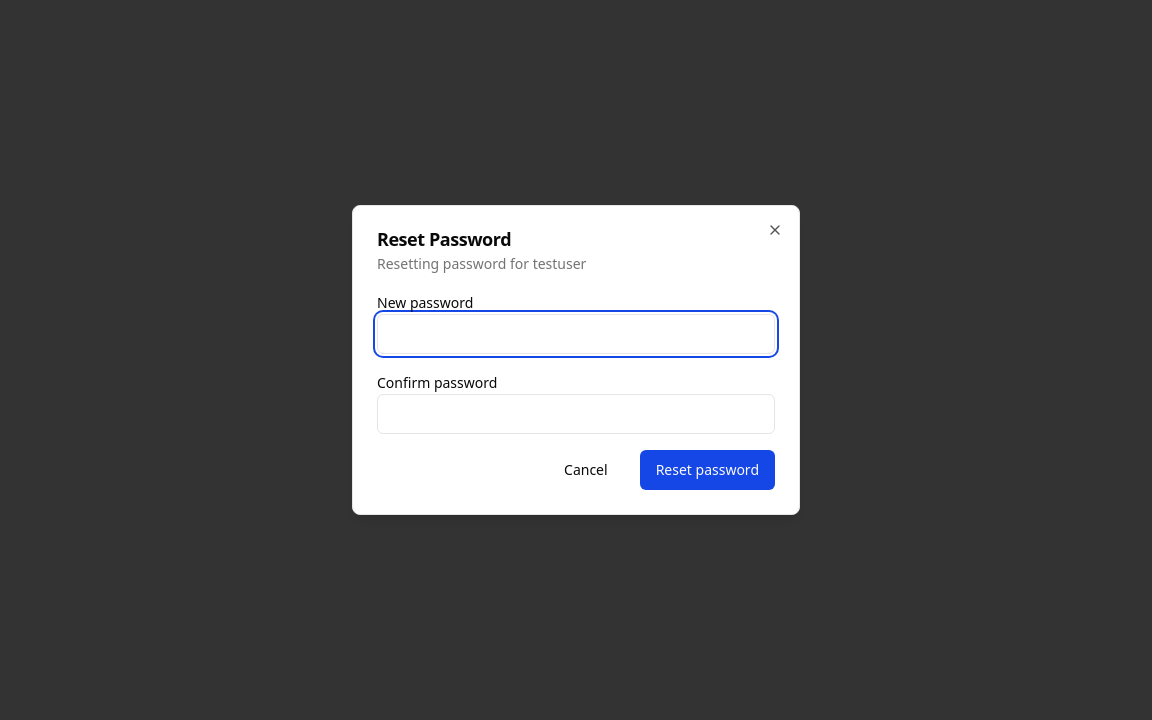
Test case: ResetPasswordDialog › shows "Passwords do not match." when passwords differ
Type "password123" into the password field labelled "New password" at (576, 334), box [377,314,775,354]
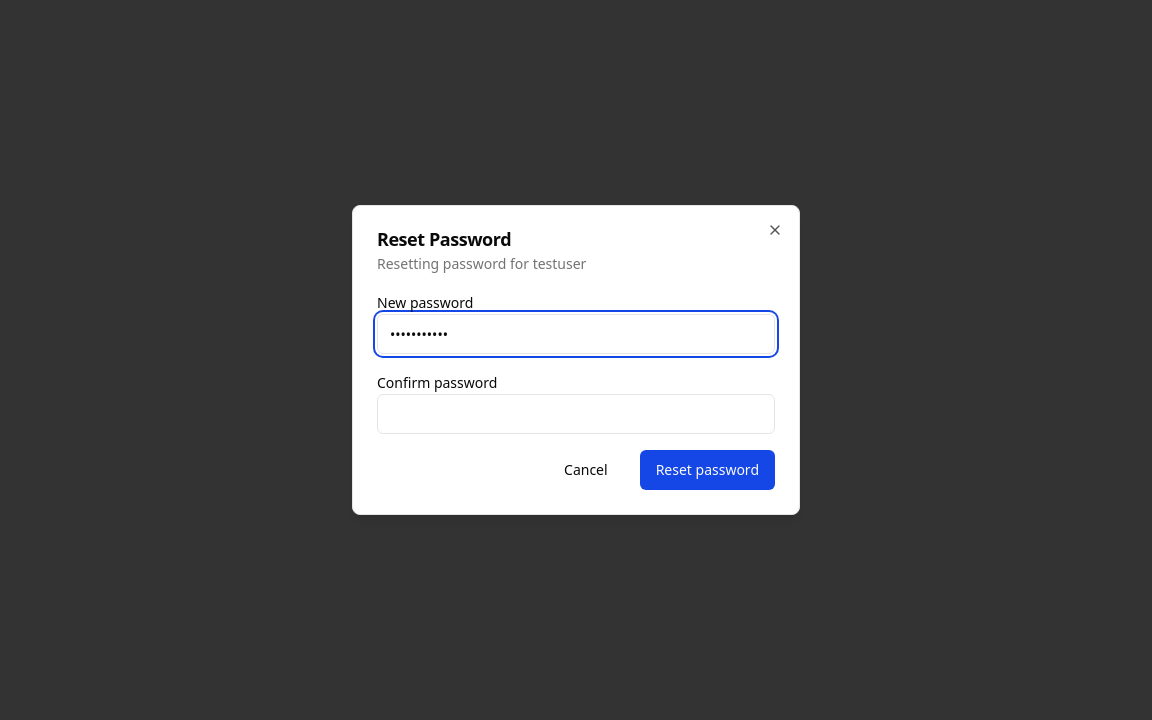
Type "different1" into the password field labelled "Confirm password" at (576, 414), box [377,394,775,434]
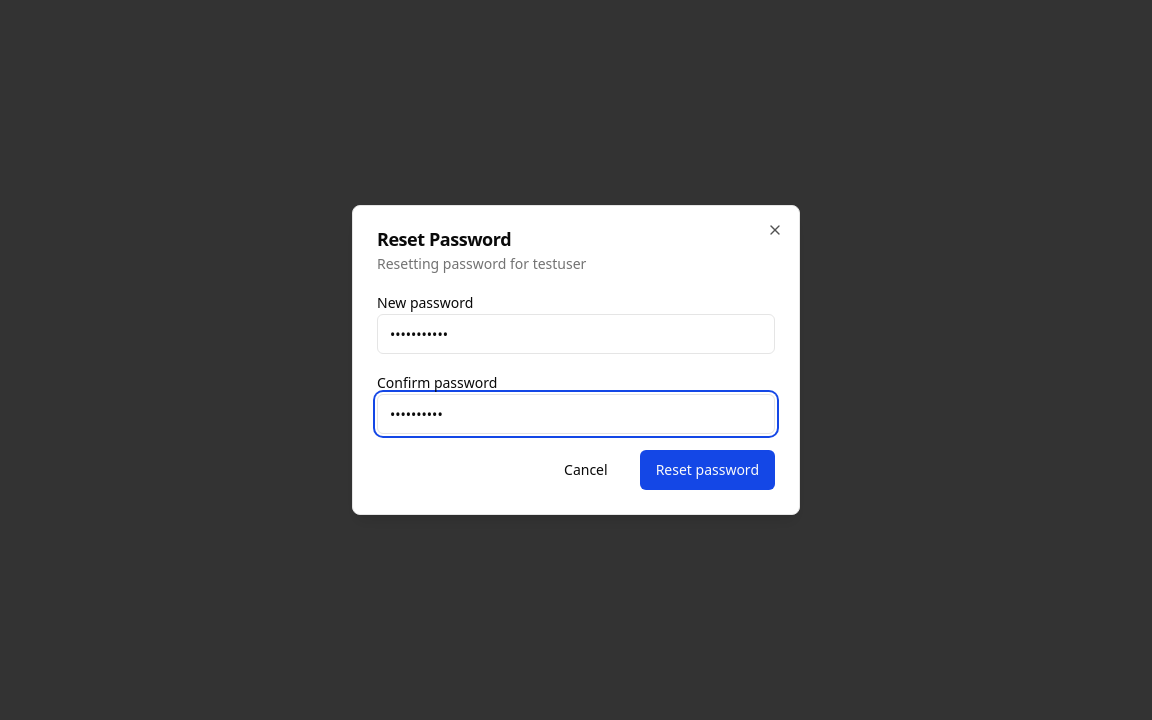
Click the button "Reset password" at (707, 470), box [640,450,775,490]
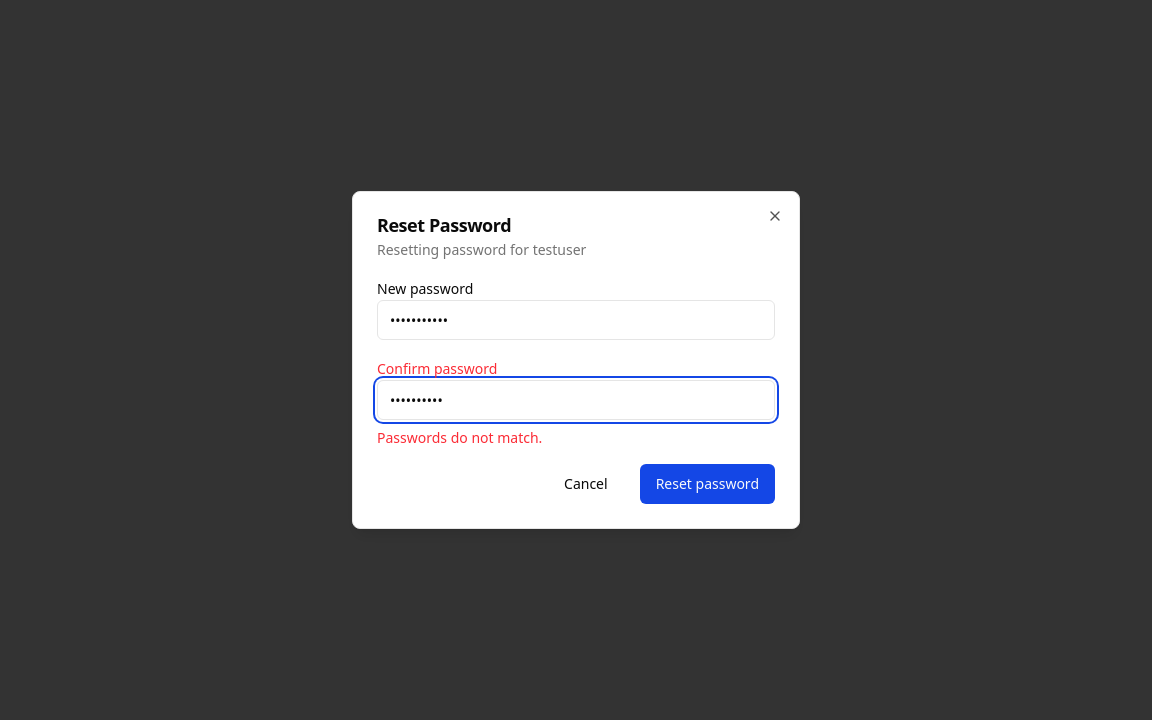
Result: the text "Passwords do not match." is shown at [377,428,542,447]
